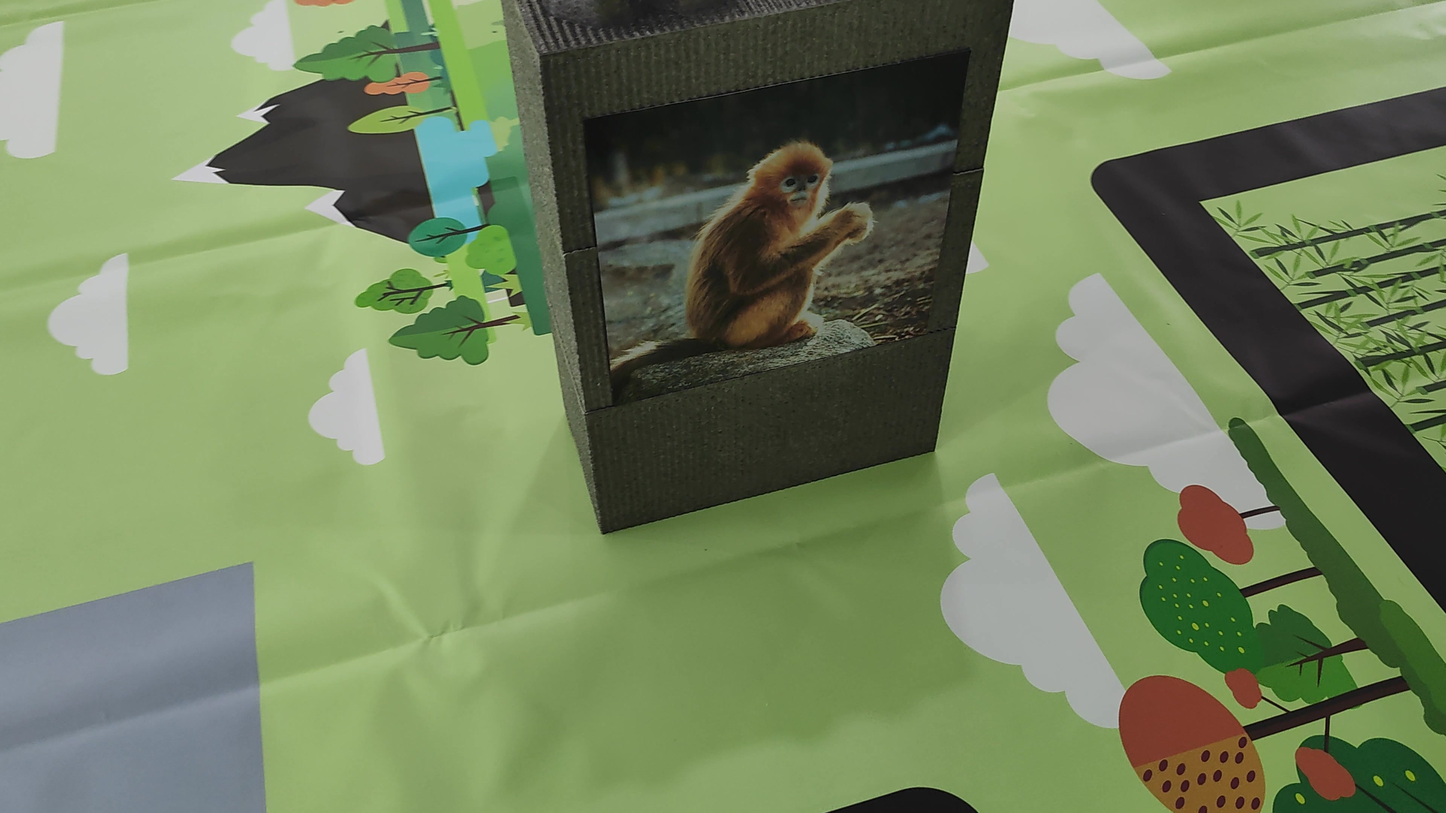monkey: (670, 126, 909, 375)
